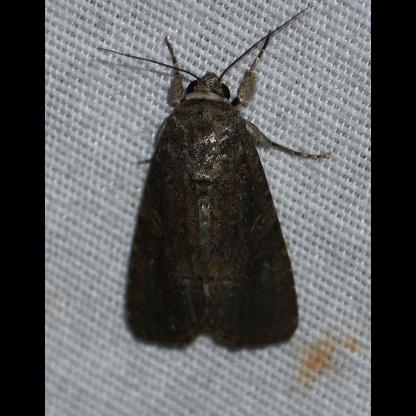Fall Armyworm Moth: (95, 4, 338, 358)
